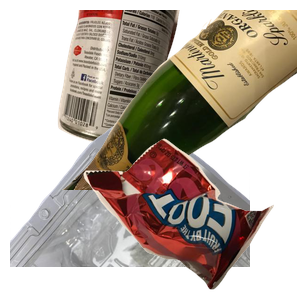glass: (60, 10, 300, 190)
metal: (55, 10, 227, 149)
plastic: (10, 120, 250, 300)
trash: (81, 136, 300, 300)
